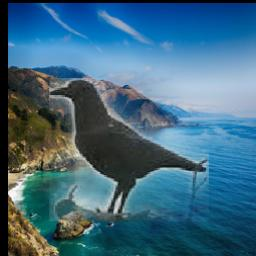Crow: (48, 79, 208, 222)
